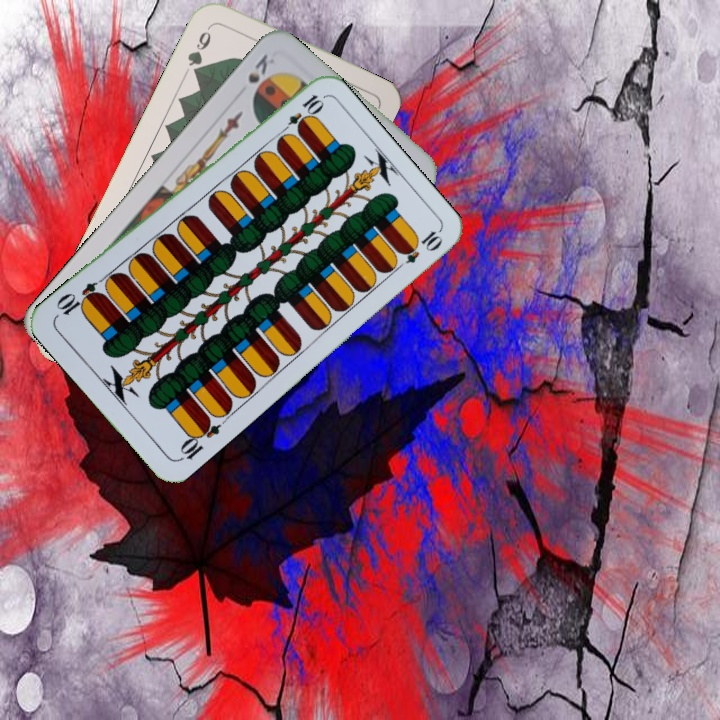E10: (174, 413, 223, 464), (276, 90, 326, 138)
G9: (183, 21, 216, 79)
SK: (244, 49, 277, 86)
